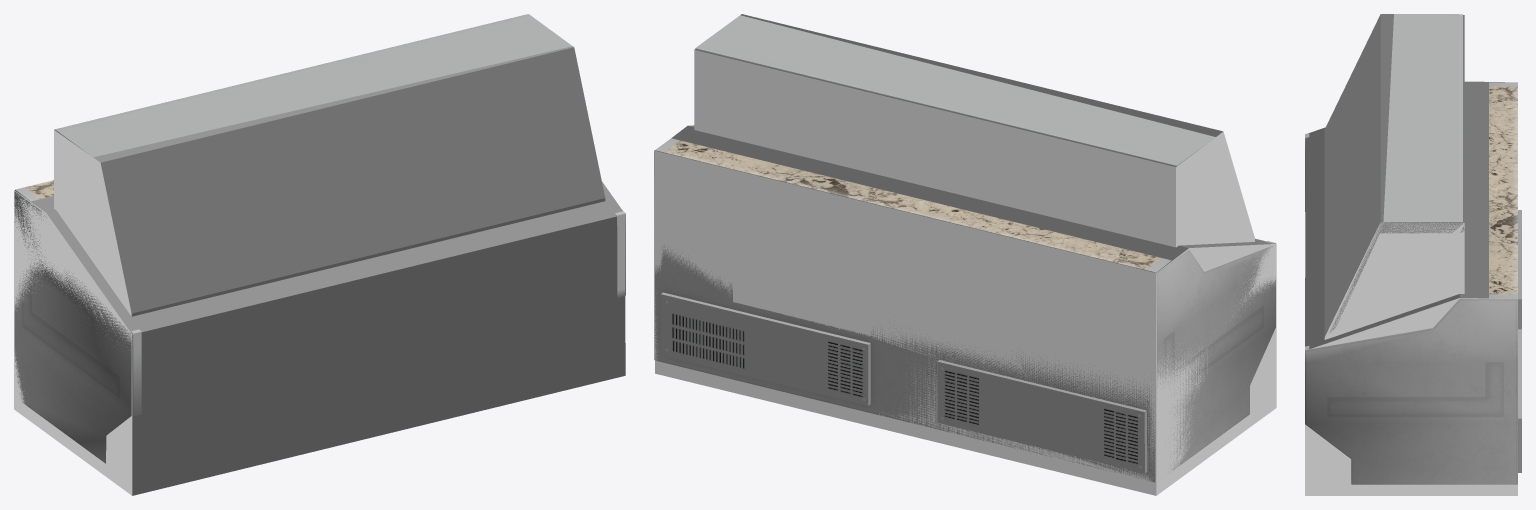
File: SM_Displayfridge.fbx
The picture shows the model from 3 angles, left to right: view 1: azimuth 30°, elevation 25°; view 2: azimuth 150°, elevation 25°; view 3: azimuth 270°, elevation 25°; orthographic projection. The views are drawn at different scales.
Parts seen in each view (by area): view 1: SM_Displayfridge_ConvexHulls, SM_Displayfridge; view 2: SM_Displayfridge_ConvexHulls, SM_Displayfridge; view 3: SM_Displayfridge, SM_Displayfridge_ConvexHulls.
Boxes of the visible parts, left/top/right/bottom form: SM_Displayfridge_ConvexHulls: left=14, top=24, right=625, bottom=495; SM_Displayfridge: left=14, top=14, right=625, bottom=463; SM_Displayfridge_ConvexHulls: left=655, top=14, right=1276, bottom=495; SM_Displayfridge: left=654, top=15, right=1275, bottom=482; SM_Displayfridge: left=1305, top=14, right=1521, bottom=484; SM_Displayfridge_ConvexHulls: left=1305, top=14, right=1517, bottom=495.
Size of the model in its own units: 250 by 106 by 145.
3 materials, 2 textured.
